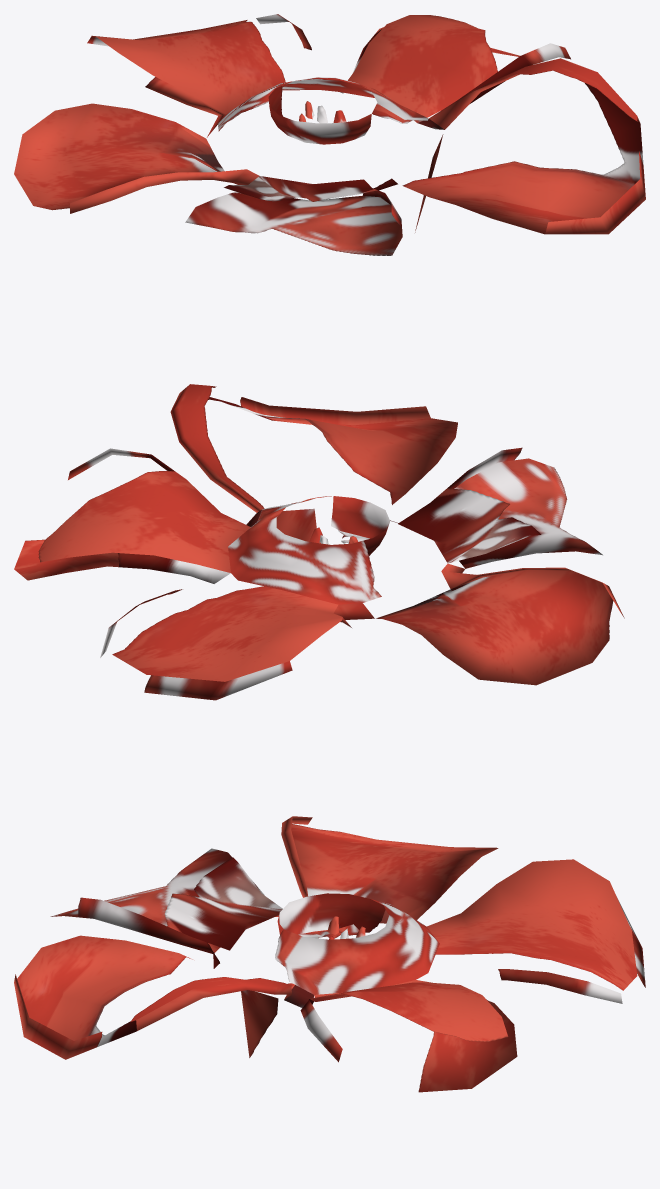
Rendered from VEG_PLA_rafl.FBX.
3 renders of one model, top to bottom at view 1: azimuth 30°, elevation 25°; view 2: azimuth 150°, elevation 25°; view 3: azimuth 270°, elevation 25°, orthographic. The views are drawn at different scales.
Parts seen in each view (by area): view 1: VEG_PLA_rafl_LOD0; view 2: VEG_PLA_rafl_LOD0; view 3: VEG_PLA_rafl_LOD0.
Part boxes in pixels (left/top/right/bottom): VEG_PLA_rafl_LOD0: left=14, top=14, right=645, bottom=255; VEG_PLA_rafl_LOD0: left=14, top=384, right=624, bottom=700; VEG_PLA_rafl_LOD0: left=14, top=816, right=645, bottom=1092.
Size of what is drawn, in the model's own units: 69.2 by 32.97 by 71.15.
1 material, 1 textured.
